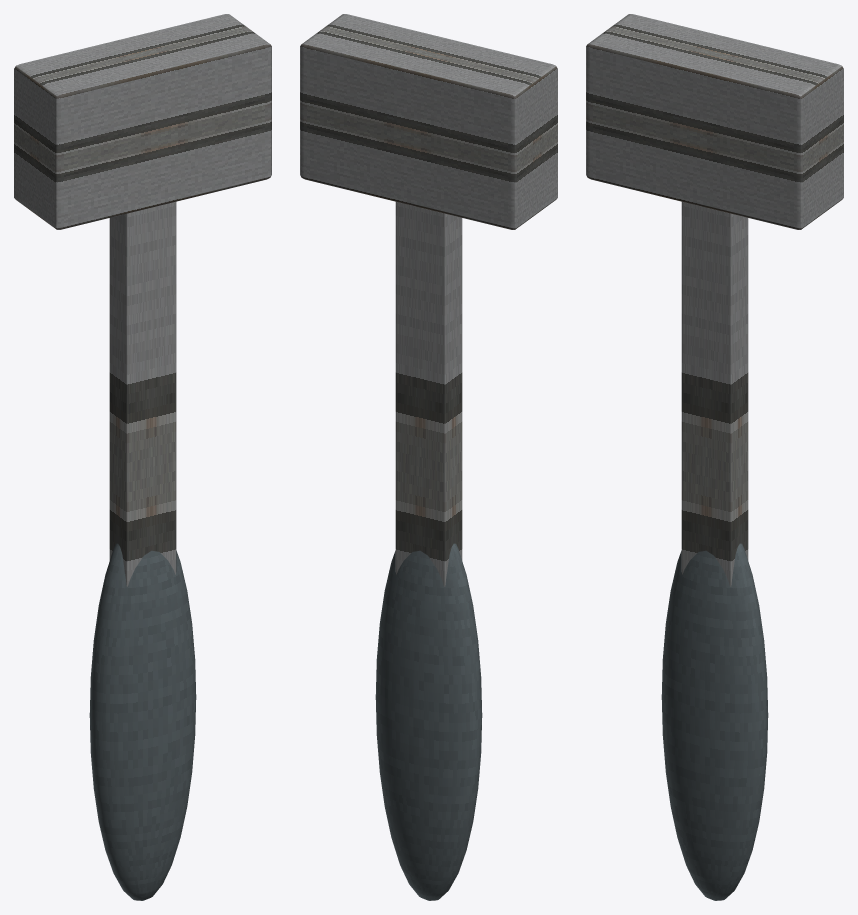
Rendered from spanner.glb.
3 views of the same model, side by side, from view 1: azimuth 30°, elevation 25°; view 2: azimuth 150°, elevation 25°; view 3: azimuth 330°, elevation 25° (orthographic).
Parts seen in each view (by area): view 1: head, grip, shaft; view 2: head, grip, shaft; view 3: head, grip, shaft.
Part boxes in pixels (x1,y1,x2,y2): head: [14, 14, 271, 229]; grip: [89, 543, 196, 900]; shaft: [109, 202, 176, 586]; head: [300, 14, 557, 229]; grip: [375, 543, 482, 900]; shaft: [395, 202, 462, 586]; head: [586, 14, 843, 229]; grip: [661, 543, 768, 900]; shaft: [681, 202, 748, 586].
Bounding box in the file's own units: 0.075 × 0.28 × 0.026.
2 materials, 2 textured.
